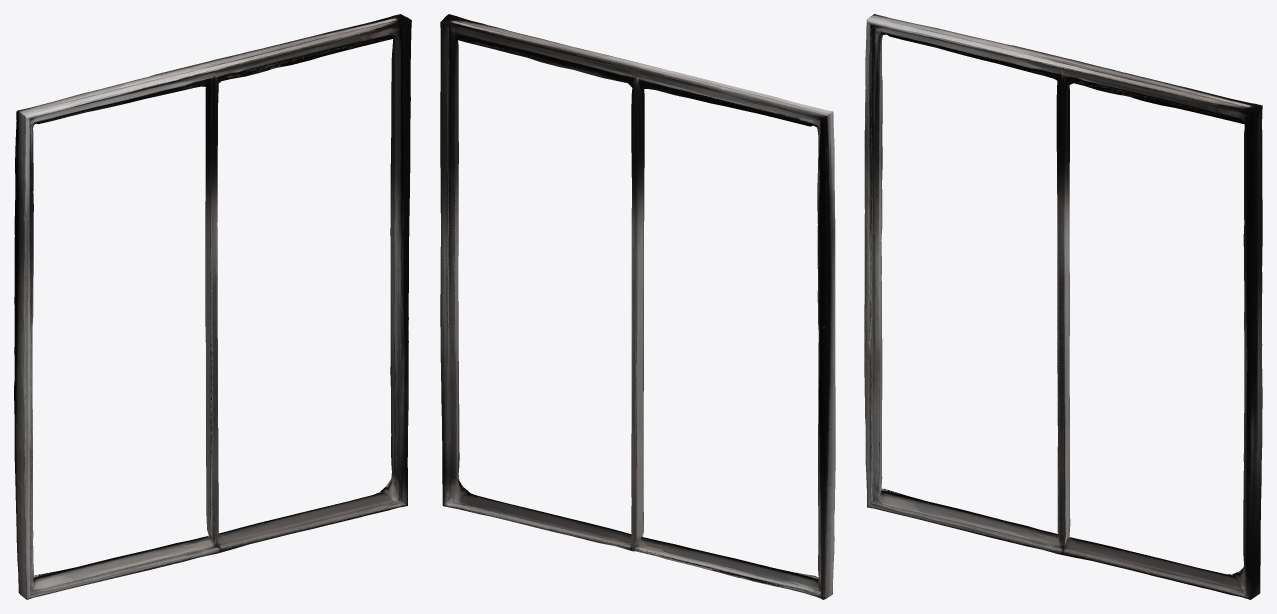
3 renders of one model, left to right at view 1: azimuth 30°, elevation 25°; view 2: azimuth 150°, elevation 25°; view 3: azimuth 330°, elevation 25°, orthographic.
Visible parts, largest first — view 1: world; view 2: world; view 3: world.
Boxes of the visible parts, x1,y1,x2,y2 form: world: [14, 14, 411, 599]; world: [440, 14, 835, 599]; world: [864, 14, 1262, 599].
Bounding box in the file's own units: 0.835 × 1 × 0.0424.
Materials: 1 (1 with a texture image).
